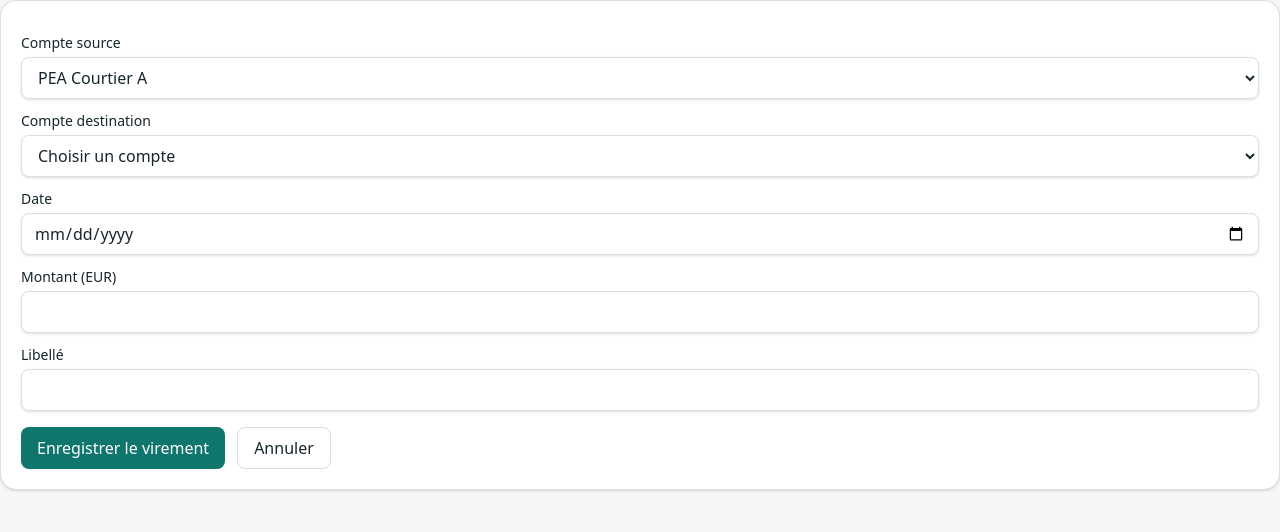
Test: TransferForm › affiche l'erreur du serveur
Select "Livret A" in the dropdown labelled "Compte destination" at coordinates (640, 156), box [21,135,1259,177]
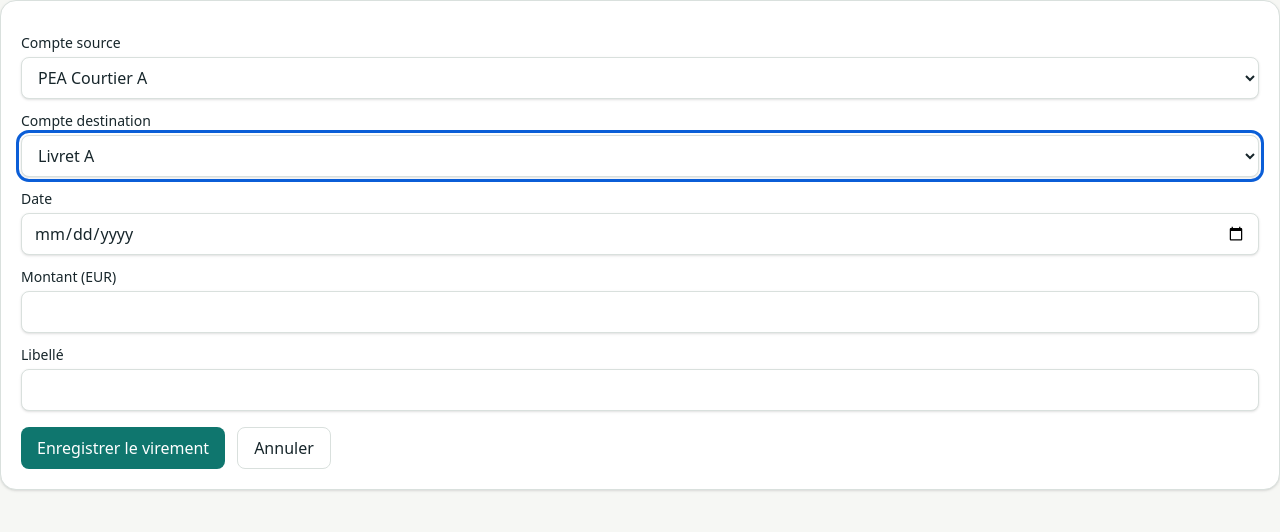
Type "2026-03-01" into the date field labelled "Date" at coordinates (640, 234), box [21,213,1259,255]
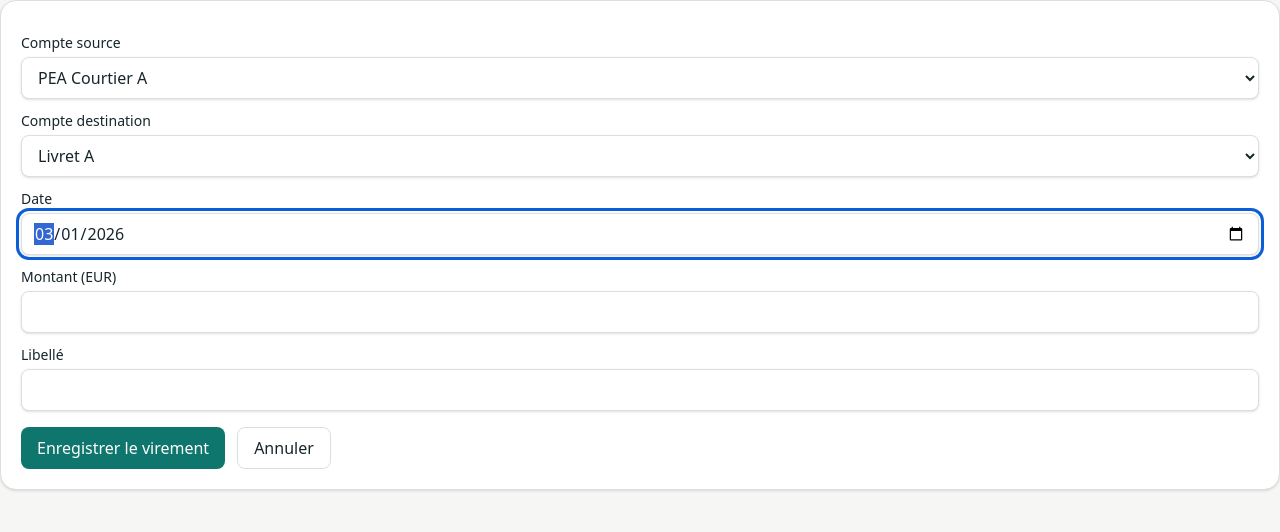
Type "10" into the field labelled "Montant (EUR)" at coordinates (640, 312), box [21,291,1259,333]
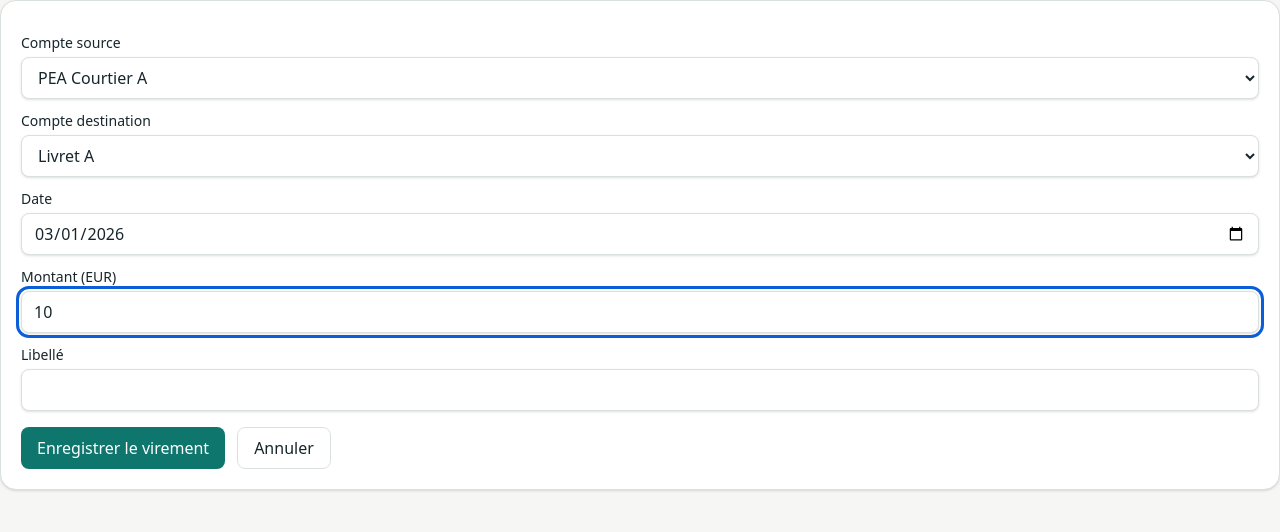
Click the button "Enregistrer le virement" at coordinates (123, 448), box [21,427,225,469]
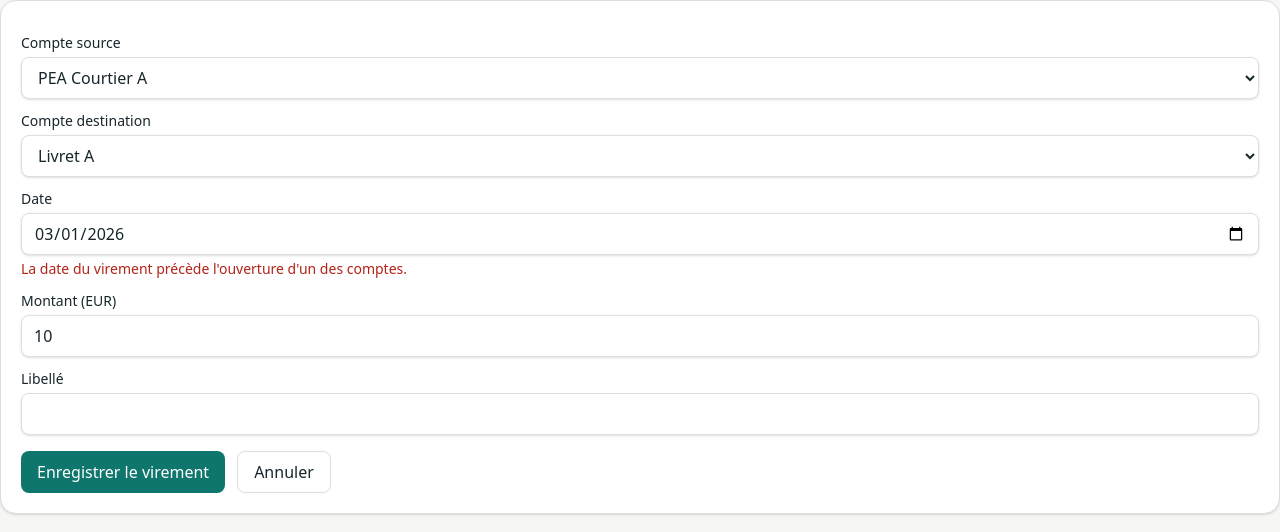
Now the text "La date du virement précède l'ouverture d'un des comptes." is shown, box [21,259,407,278]
